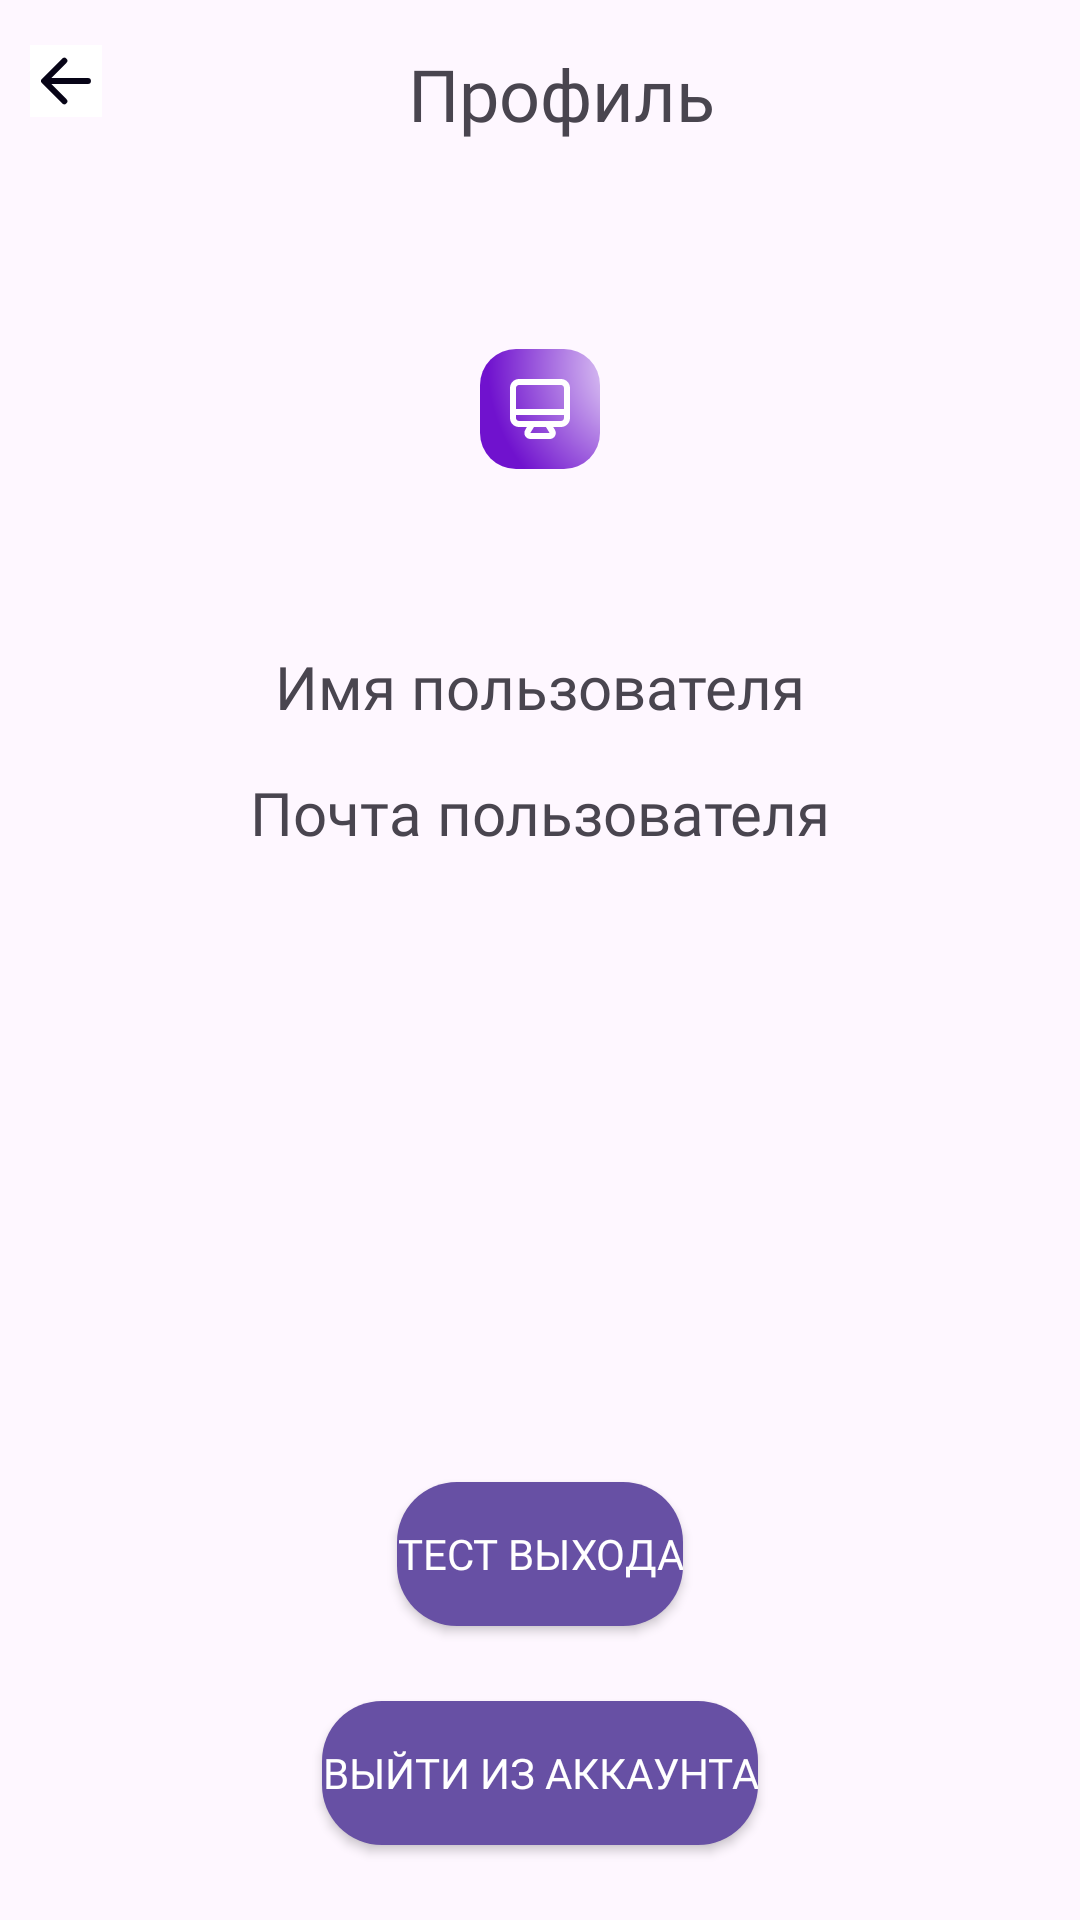

Icons on this 1080px×1920px Android screen, each with the point to tap as (x=x, y=y):
arrow back: (x=66, y=81)
